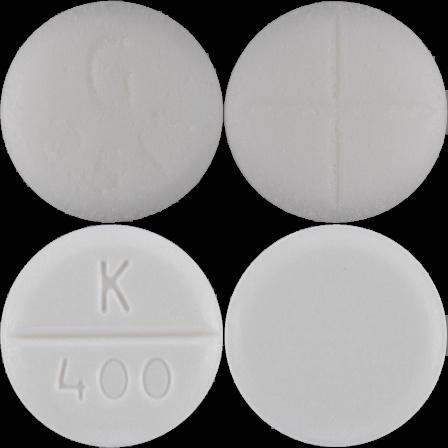68084-494: (0, 0, 224, 224)
